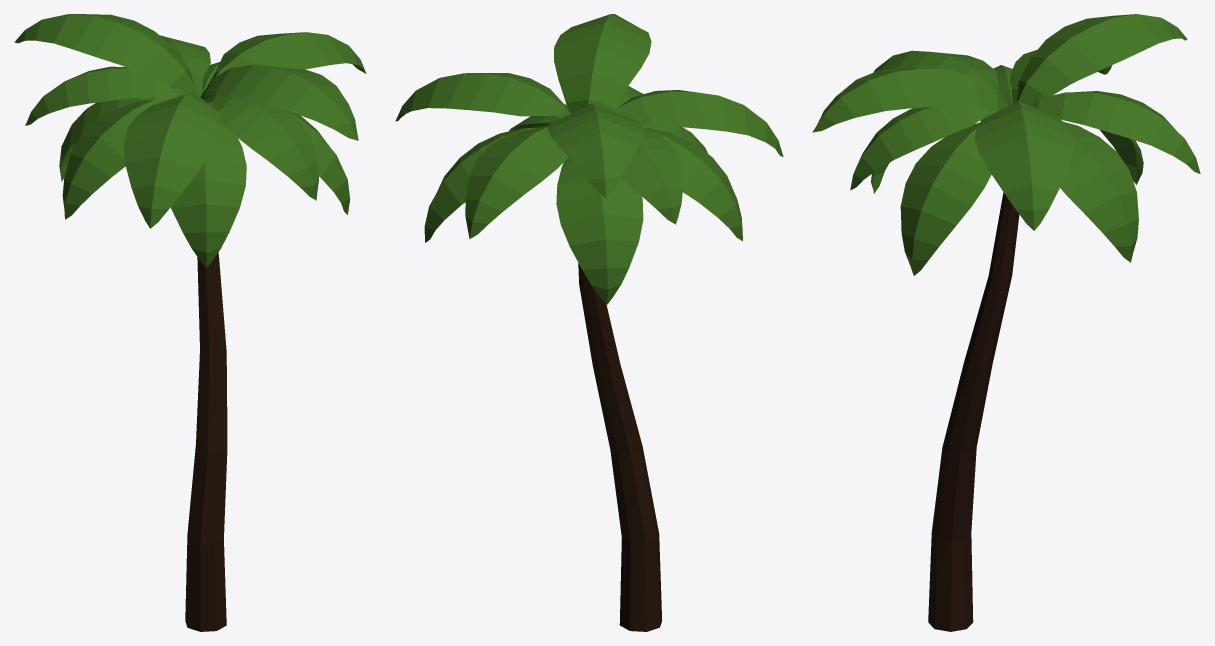
Rendered from PalmeraSeparada4.fbx.
3 views of the same model, side by side, from view 1: azimuth 30°, elevation 25°; view 2: azimuth 150°, elevation 25°; view 3: azimuth 270°, elevation 25° (orthographic). The views are drawn at different scales.
Visible parts, largest first — view 1: Palm-tree, Object035, Object038, Object034, Object032, Object033, Object036, Object031, Object037, Object030, Object039, Object040; view 2: Palm-tree, Object039, Object032, Object040, Object031, Object038, Object035, Object037, Object036, Object041; view 3: Palm-tree, Object031, Object030, Object038, Object032, Object041, Object040, Object033, Object035, Object039, Object037.
Boxes of the visible parts, x1,y1,x2,y2 form: Palm-tree: (185, 252, 227, 631); Object035: (123, 91, 221, 228); Object038: (14, 14, 199, 96); Object034: (170, 123, 246, 267); Object032: (200, 64, 358, 140); Object033: (203, 94, 318, 200); Object036: (62, 95, 179, 219); Object031: (208, 32, 366, 84); Object037: (25, 66, 185, 125); Object030: (208, 102, 350, 214); Object039: (59, 97, 160, 181); Object040: (160, 35, 210, 96); Palm-tree: (578, 263, 662, 631); Object039: (556, 157, 643, 304); Object032: (554, 14, 651, 113); Object040: (465, 126, 568, 238); Object031: (395, 73, 571, 121); Object038: (547, 103, 643, 197); Object035: (611, 90, 783, 156); Object037: (620, 130, 682, 224); Object036: (643, 128, 742, 241); Object041: (424, 127, 537, 242); Palm-tree: (928, 192, 1019, 631); Object031: (974, 101, 1073, 230); Object030: (900, 122, 991, 275); Object038: (1016, 14, 1187, 104); Object032: (812, 67, 1008, 132); Object041: (1060, 122, 1138, 262); Object040: (1029, 91, 1200, 173); Object033: (850, 105, 998, 190); Object035: (873, 50, 1006, 102); Object039: (1100, 130, 1143, 184); Object037: (1009, 50, 1111, 103).
Size of the model in its own units: 324 by 540 by 324.
